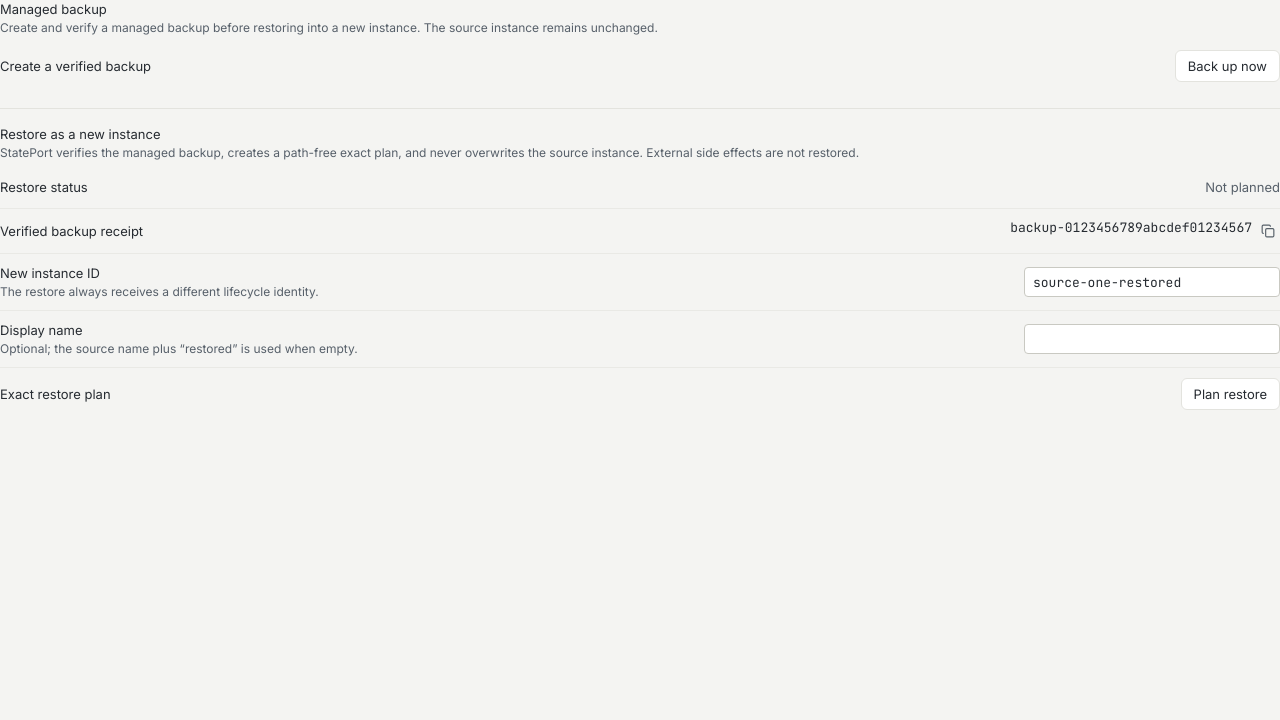
reviews an exact path-free restore plan before approval and apply
Expected: the text "backup-0123456789abcdef01234567" is shown, [1010, 219, 1252, 237]
Expected: the text "Not planned" is shown, [1205, 178, 1279, 196]
Click the button with test id "restore-plan-action" at [1230, 394], box [1181, 378, 1279, 410]
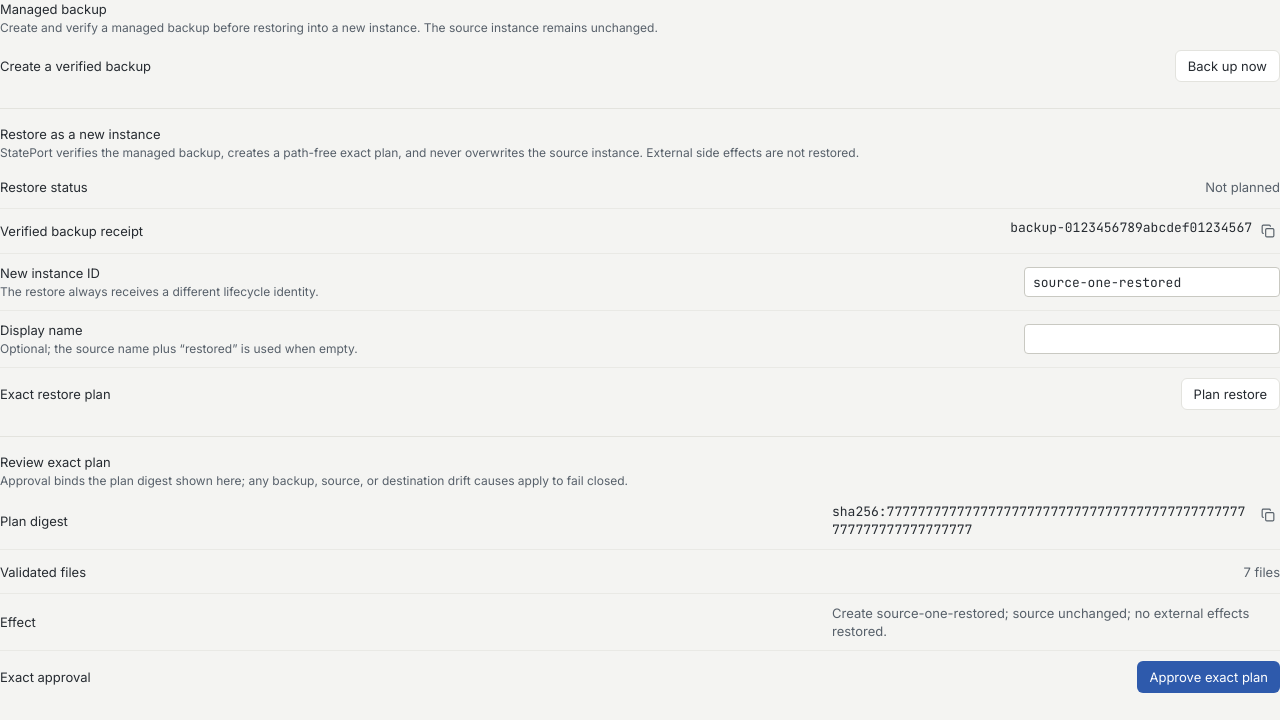
Result: the text "source unchanged; no external effects restored" is shown at [832, 605, 1253, 639]
Click the button with test id "restore-approve-action" at [1209, 677], box [1138, 661, 1279, 693]
(page scrolled)
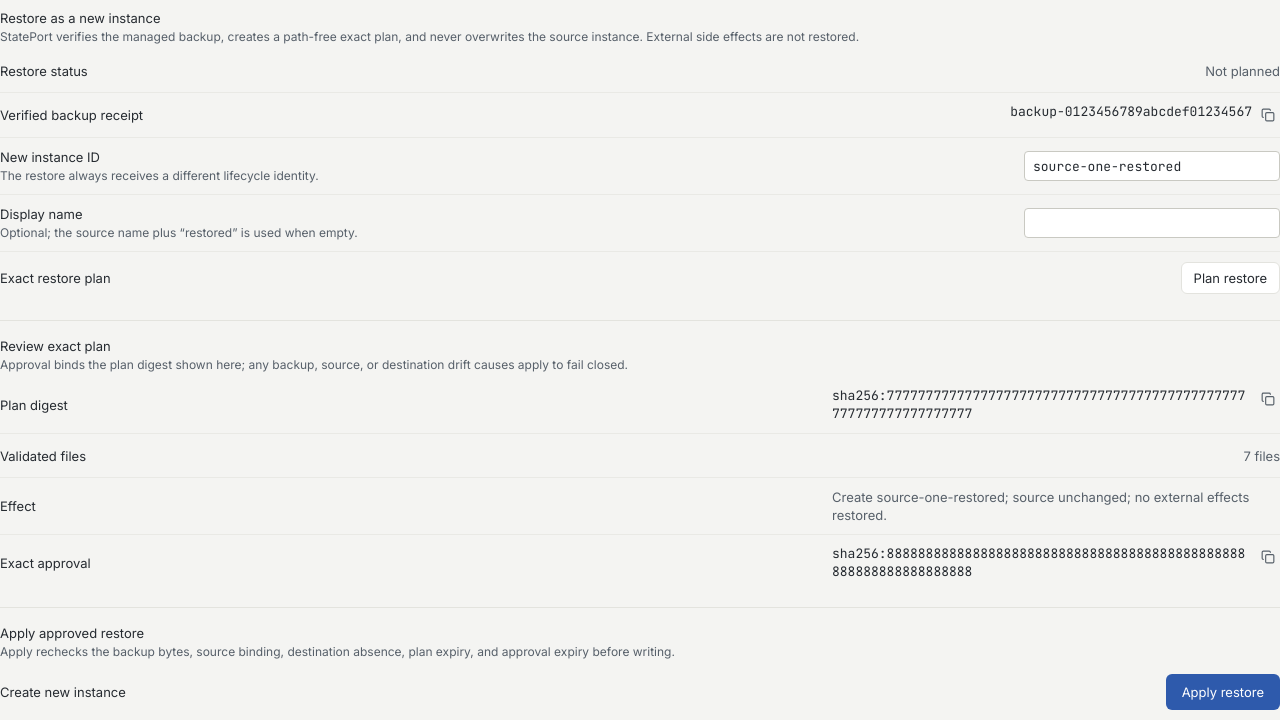
Click the button with test id "restore-apply-action" at [1223, 692], box [1166, 674, 1279, 710]
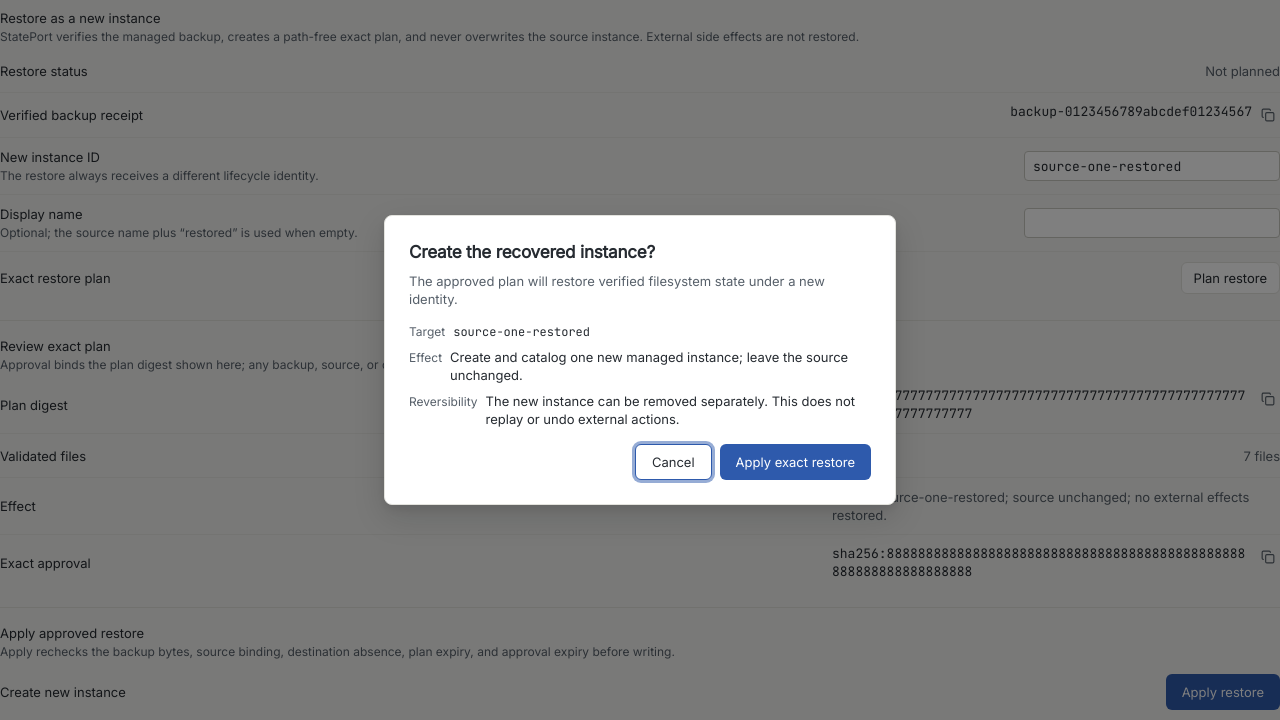
Result: the heading "Create the recovered instance?" is shown at [409, 242, 655, 262]
Click the button with test id "confirm-action" at [795, 462], box [720, 444, 871, 480]
(page scrolled)
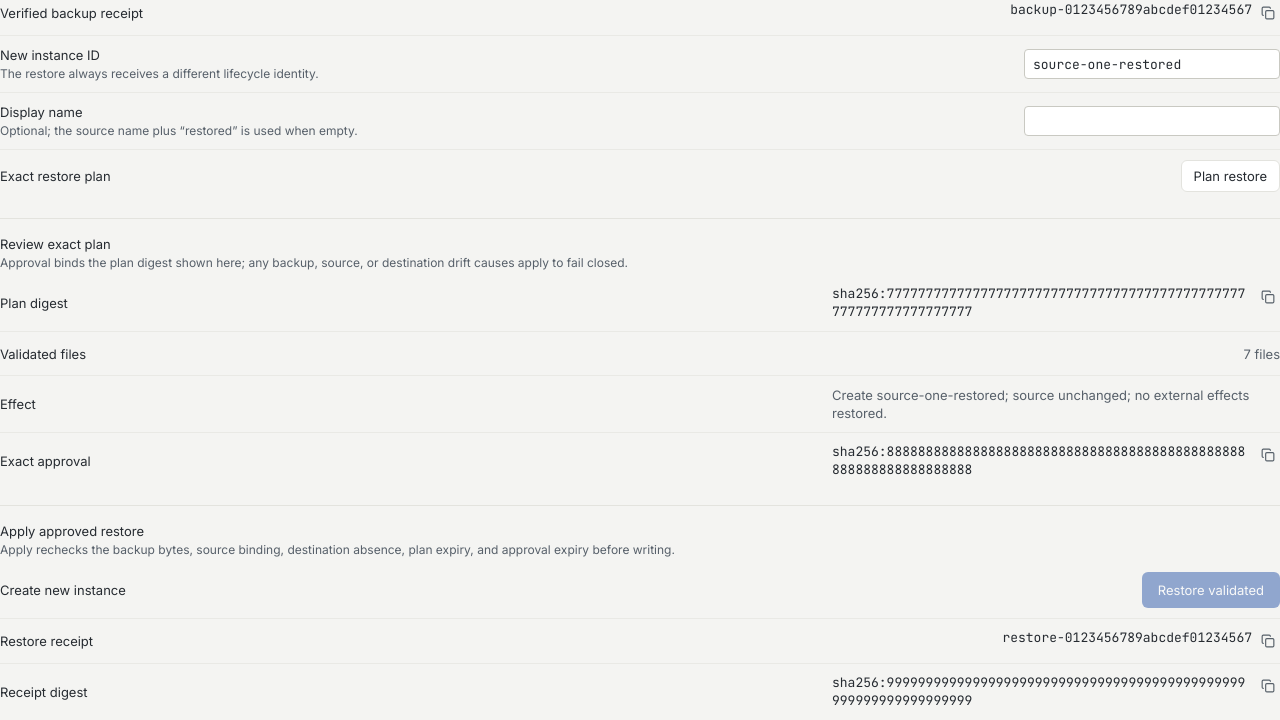
Result: the text "restore-0123456789abcdef01234567" is shown at [1002, 629, 1252, 647]
